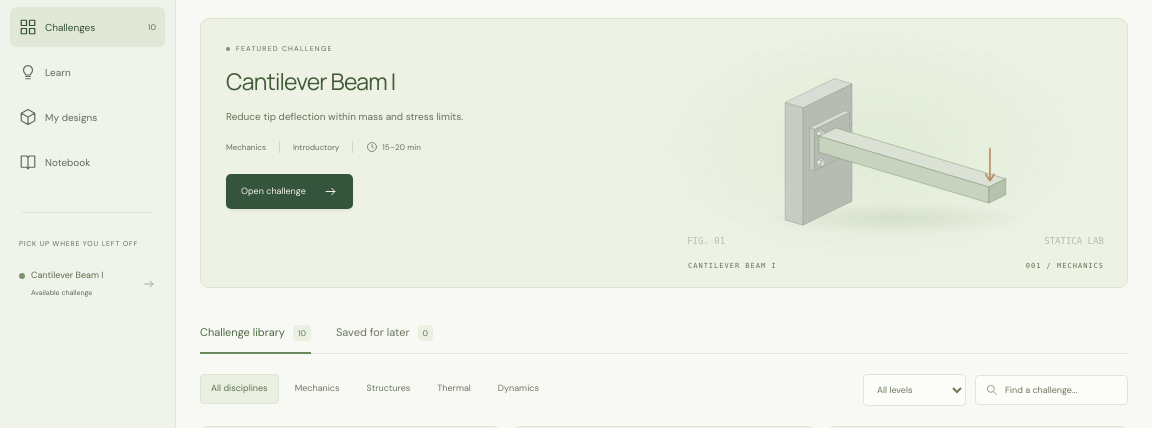
Test: Learn (task 67) › lists subjects, topics and modules, with planned modules labelled and no content
Click the button "Learn" at [88, 72], box [10,52,165,92]
(page scrolled)
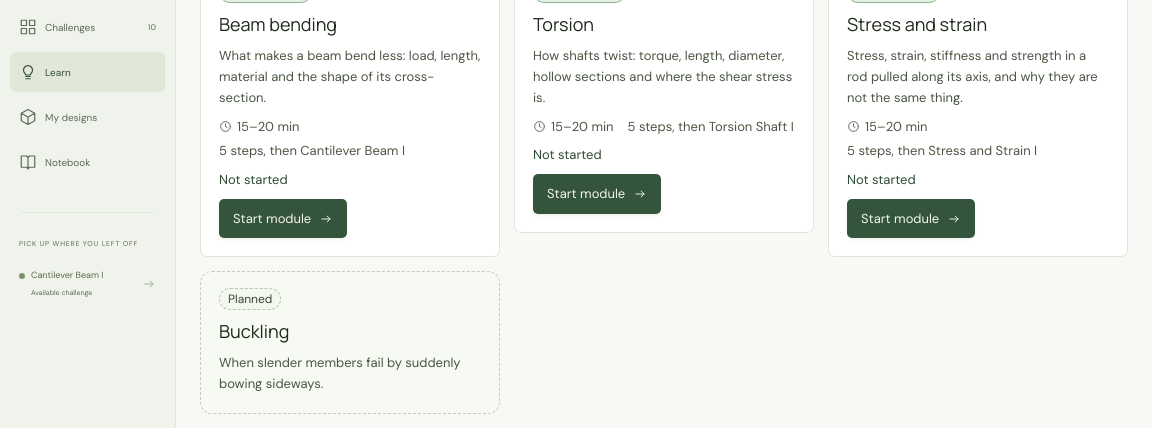
Expected: the heading "Beam bending" is shown, [219,11,337,38]
Expected: the text "Not started" below "Beam bending" is shown, [219,171,288,188]
Expected: the button "Open challenge" is gone
